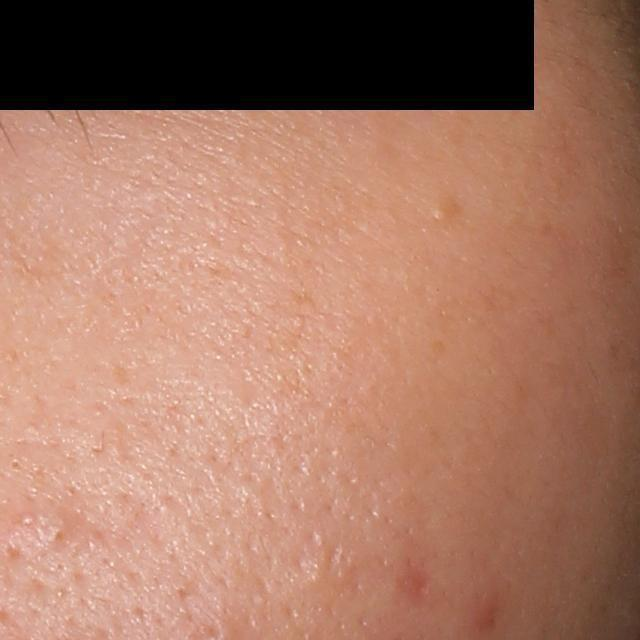comedo: (18, 513, 35, 530), (9, 457, 21, 472)
